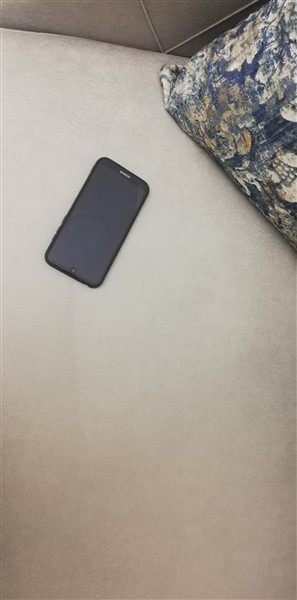telefon: (42, 153, 151, 292)
